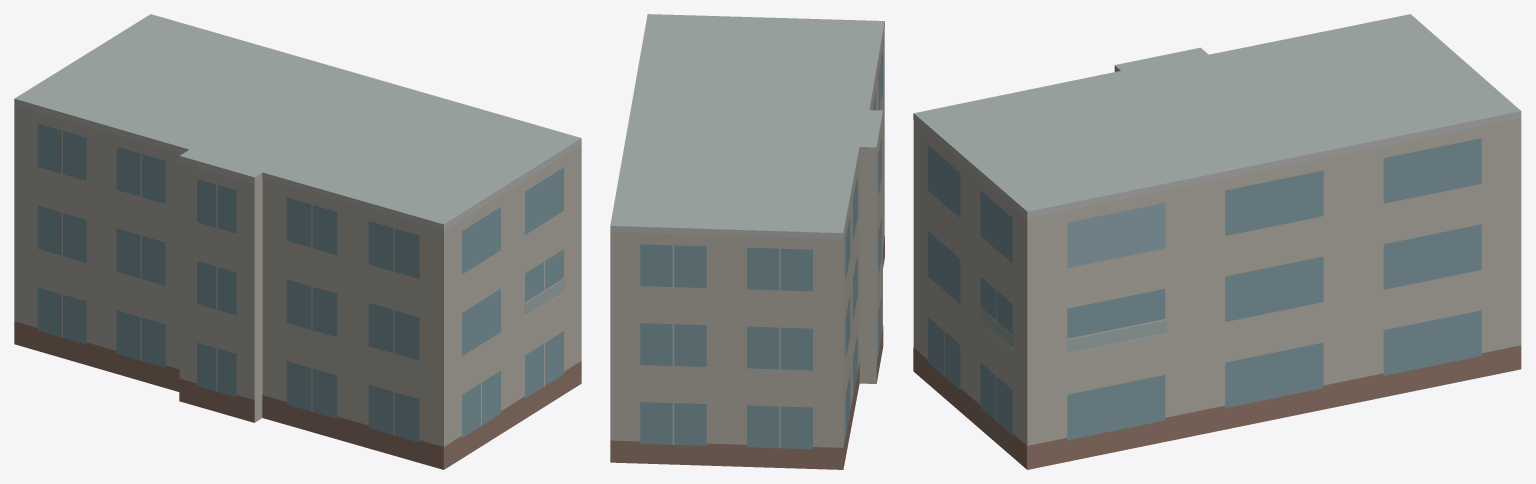
The model's file is survey-upis-32704609.glb.
3 renders of one model, left to right at view 1: azimuth 30°, elevation 25°; view 2: azimuth 150°, elevation 25°; view 3: azimuth 270°, elevation 25°, orthographic. The views are drawn at different scales.
Visible parts, largest first — view 1: survey-upis-32704609.tmp; view 2: survey-upis-32704609.tmp; view 3: survey-upis-32704609.tmp.
Boxes of the visible parts, left/top/right/bottom form: survey-upis-32704609.tmp: left=14, top=14, right=581, bottom=469; survey-upis-32704609.tmp: left=610, top=14, right=884, bottom=469; survey-upis-32704609.tmp: left=913, top=14, right=1521, bottom=469.
Size of the model in its own units: 15.03 by 9.15 by 19.53.
